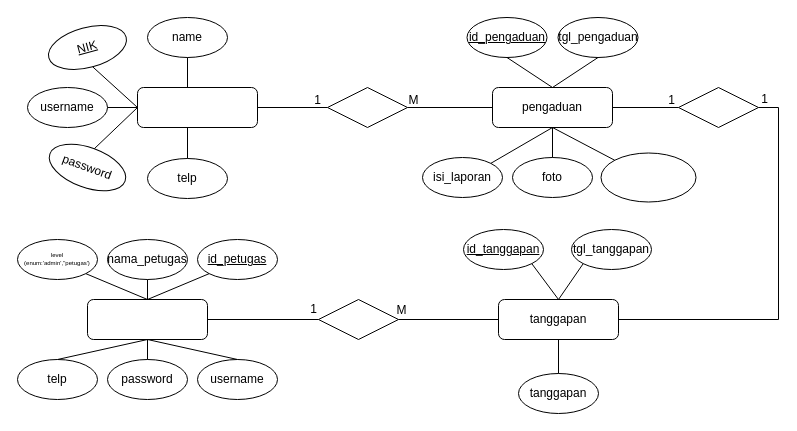
This 797x431 diagram has some shape labels left out. The box of each missing label's shape, as (x1, y1, x2, y2) in pixels:
dibuat: (318, 298, 398, 340)
ditanggapi: (678, 86, 758, 128)
Masyarakat: (136, 86, 258, 128)
melapor: (326, 86, 408, 128)
petugas: (86, 298, 208, 340)
status (enum:'belum ditanggapi','ditanggapi','ditolak'): (600, 152, 696, 202)
